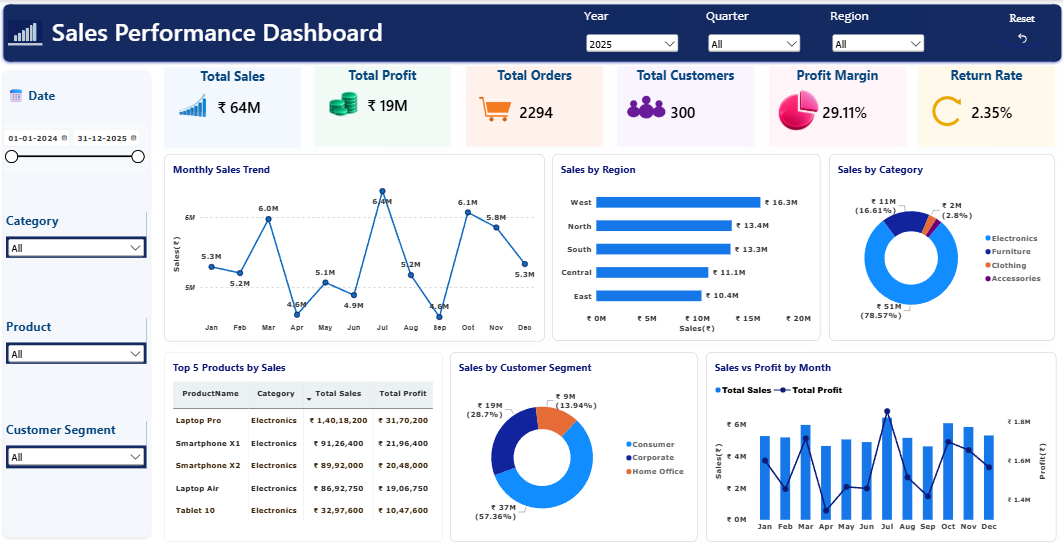

Layout of this report page (visuals, bound fields, positions):
{"tool":"powerbi","page":{"name":"Sales Overview","canvas":[2098,1080],"ordinal":0},"visuals":[{"type":"shape","box":[0,0,2095,129.6],"z":0},{"type":"textbox","box":[52.9,28.7,700.9,63.9],"z":1000},{"type":"image","box":[17.6,37.5,68.3,55.1],"z":2000},{"type":"slicer","title":"Year","fields":{"Values":["Calendar.Year"]},"box":[1148.3,15.4,189.6,99.2],"z":3000},{"type":"slicer","title":"Quarter","fields":{"Values":["Calendar.Quarter"]},"box":[1388.6,15.4,189.6,99.2],"z":4000},{"type":"slicer","title":"Region","fields":{"Values":["Store.Region"]},"box":[1631,15.4,189.6,99.2],"z":5000},{"type":"actionButton","title":"Reset","box":[1959.4,24.2,99.2,72.7],"z":6000},{"type":"shape","box":[0,130,306.4,934.5],"z":7000},{"type":"slicer","title":"Date","fields":{"Values":["Calendar.Date"]},"box":[0,246.9,289.8,85.7],"z":8000},{"type":"textbox","box":[18,170,116,40],"z":9000},{"type":"slicer","title":"Category","fields":{"Values":["Product.Category"]},"box":[13.2,416.6,275.5,90.4],"z":10000},{"type":"slicer","title":"Product","fields":{"Values":["Product.ProductName"]},"box":[13.2,623.8,275.5,90.4],"z":11000},{"type":"slicer","title":"Customer Segment","fields":{"Values":["Customer.Segment"]},"box":[13.2,826.5,275.5,92.6],"z":12000},{"type":"cardVisual","title":"Total Sales","fields":{"Data":["FactSales.Total Sales"]},"box":[324.5,130.6,269.4,159.2],"z":13000},{"type":"cardVisual","title":"Total Profit","fields":{"Data":["FactSales.Total Profit"]},"box":[619.3,130,268.9,158.7],"z":14000},{"type":"cardVisual","title":"Total Orders","fields":{"Data":["FactSales.Total Orders"]},"box":[916.9,130,268.9,158.7],"z":15000},{"type":"cardVisual","title":"Total Customers","fields":{"Data":["FactSales.Total Customers"]},"box":[1214.4,130,268.9,158.7],"z":16000},{"type":"cardVisual","title":"Profit Margin","fields":{"Data":["FactSales.Profit Margin %"]},"box":[1512,130,268.9,158.7],"z":17000},{"type":"cardVisual","title":"Return Rate","fields":{"Data":["FactSales.Return Rate %"]},"box":[1805.1,130,268.9,158.7],"z":18000},{"type":"lineChart","title":"Monthly Sales Trend","fields":{"Category":["Calendar.MonthName"],"Y":["FactSales.MTD Sales"]},"box":[324,302,748,368],"z":19000},{"type":"clusteredBarChart","title":"Sales by Region","fields":{"Category":["Store.Region"],"Y":["FactSales.Total Sales"]},"box":[1085.7,302,526.5,367.3],"z":20000},{"type":"donutChart","title":"Sales by Category","fields":{"Category":["Product.Category"],"Y":["FactSales.Total Sales"]},"box":[1630.6,302,442.9,367.3],"z":21000},{"type":"tableEx","title":"Top 5 Products by Sales","fields":{"Values":["Product.ProductName","Product.Category","FactSales.Total Sales","FactSales.Total Profit"]},"box":[324.5,691.8,546.9,373.5],"z":22000},{"type":"donutChart","title":"Sales by Customer Segment","fields":{"Category":["Customer.Segment"],"Y":["FactSales.Total Sales"]},"box":[885.7,691.8,485.7,373.5],"z":23000},{"type":"lineClusteredColumnComboChart","title":"Sales vs Profit by Month","fields":{"Category":["Calendar.MonthName"],"Y":["FactSales.Total Sales"],"Y2":["FactSales.Total Profit"]},"box":[1387.8,691.8,687.8,373.5],"z":24000}]}

Visuals, with their boxes in screenshot pixels (x1, y1, x2, y2), scaled from the page's 2098x1080 canvas onto the 1063x542 screenshot:
shape: box(0, 0, 1061, 65)
textbox: box(27, 14, 382, 46)
image: box(9, 19, 44, 46)
"Year" slicer: box(582, 8, 678, 58)
"Quarter" slicer: box(704, 8, 800, 58)
"Region" slicer: box(826, 8, 922, 58)
"Reset" actionButton: box(993, 12, 1043, 49)
shape: box(0, 65, 155, 534)
"Date" slicer: box(0, 124, 147, 167)
textbox: box(9, 85, 68, 105)
"Category" slicer: box(7, 209, 146, 254)
"Product" slicer: box(7, 313, 146, 358)
"Customer Segment" slicer: box(7, 415, 146, 461)
"Total Sales" cardVisual: box(164, 66, 301, 145)
"Total Profit" cardVisual: box(314, 65, 450, 145)
"Total Orders" cardVisual: box(465, 65, 601, 145)
"Total Customers" cardVisual: box(615, 65, 752, 145)
"Profit Margin" cardVisual: box(766, 65, 902, 145)
"Return Rate" cardVisual: box(915, 65, 1051, 145)
"Monthly Sales Trend" lineChart: box(164, 152, 543, 336)
"Sales by Region" clusteredBarChart: box(550, 152, 817, 336)
"Sales by Category" donutChart: box(826, 152, 1051, 336)
"Top 5 Products by Sales" tableEx: box(164, 347, 442, 535)
"Sales by Customer Segment" donutChart: box(449, 347, 695, 535)
"Sales vs Profit by Month" lineClusteredColumnComboChart: box(703, 347, 1052, 535)
